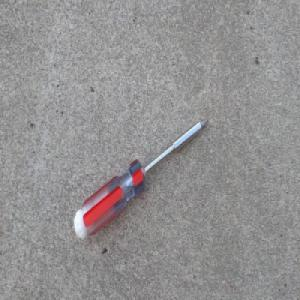Screwdriver: (72, 115, 209, 240)
